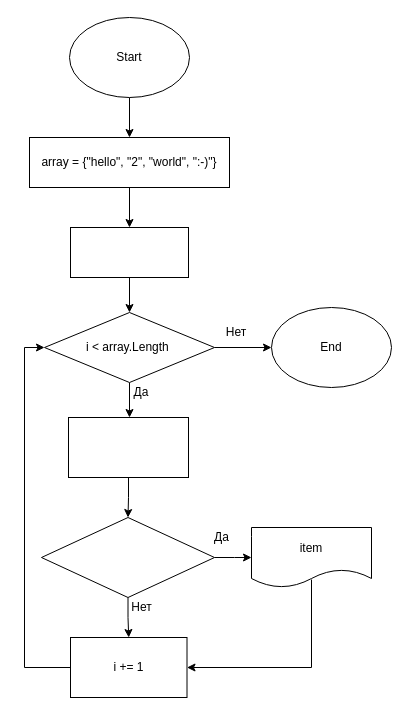
The diagram is 409 pixels wide and 715 high, and some of its shapes have lost their labels. The centre of each missing label's shape, as x and y in pixels:
"i = 0" goes at pixel 129 252.
"item = array[i]" goes at pixel 128 447.
"item.Length <= 3" goes at pixel 127 557.
